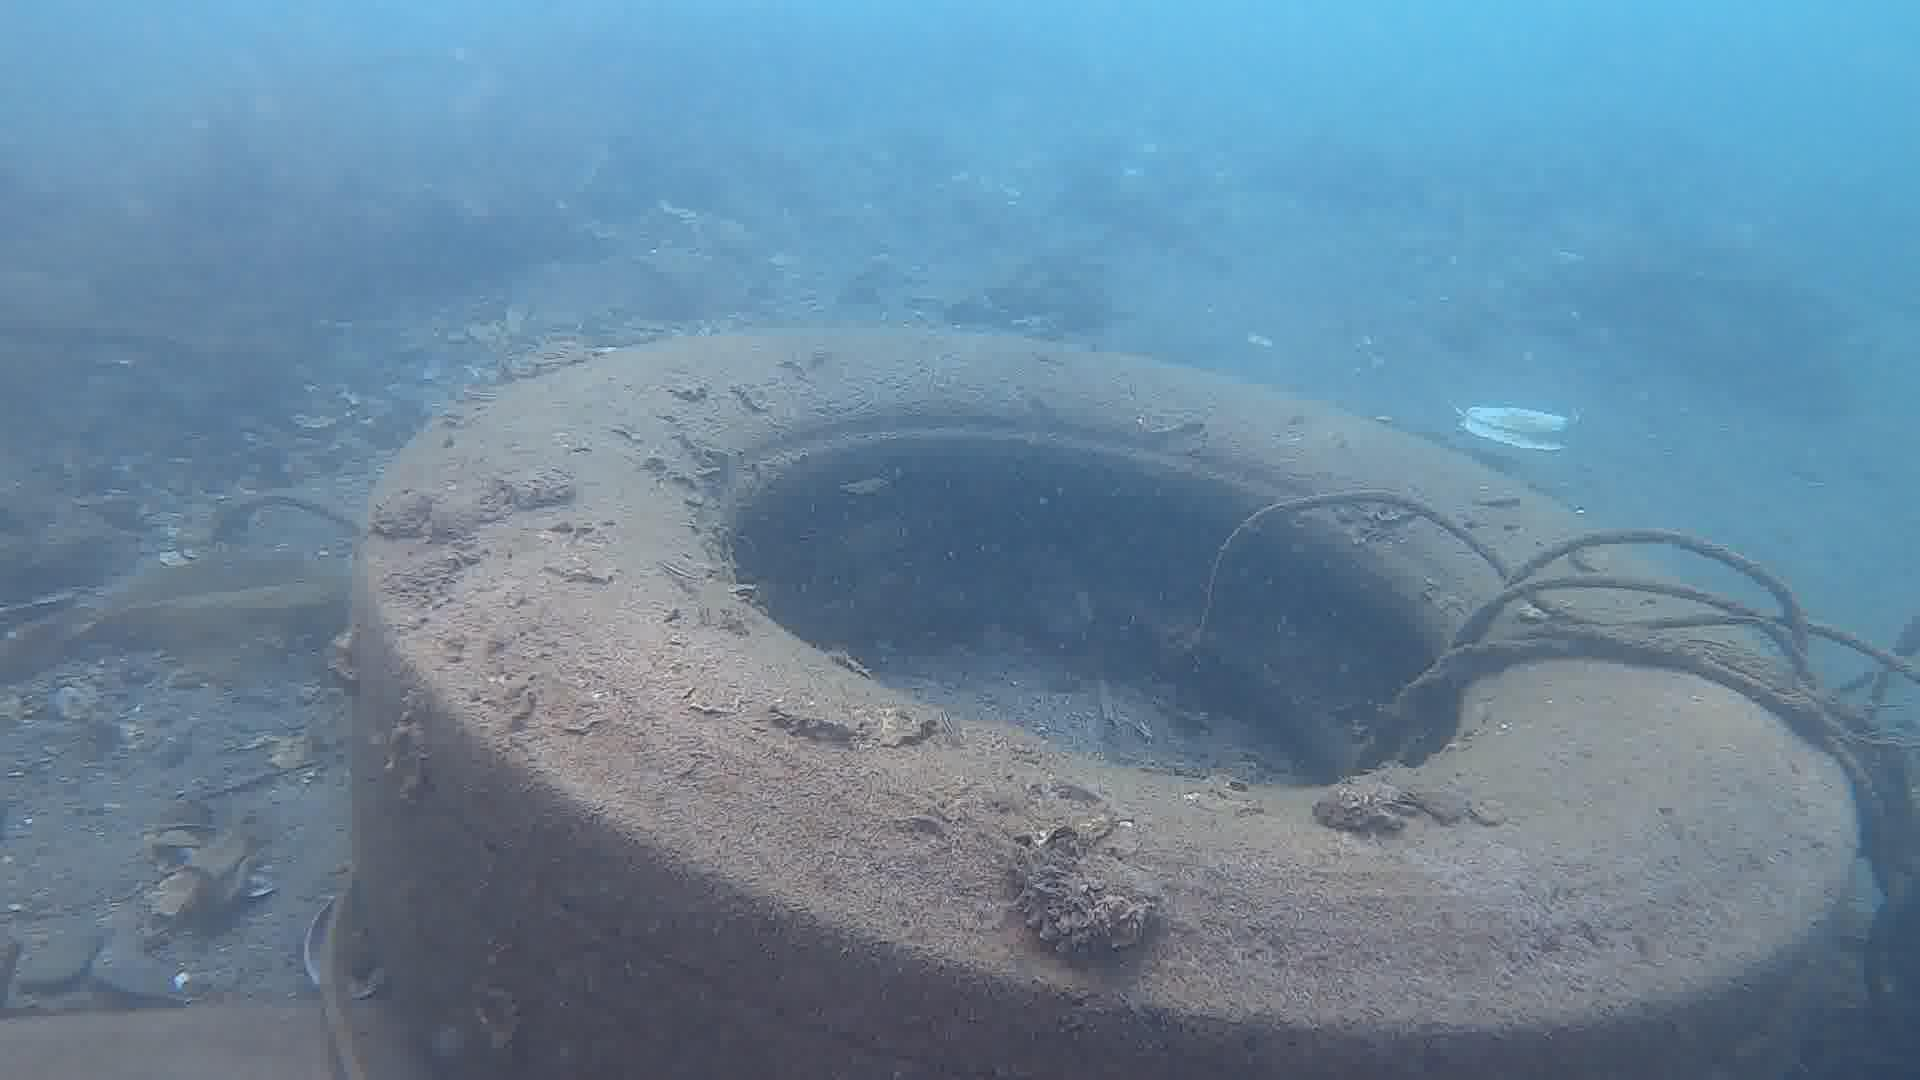bundle of ropes: (1197, 491, 1920, 764)
tire: (352, 326, 1859, 1080)
